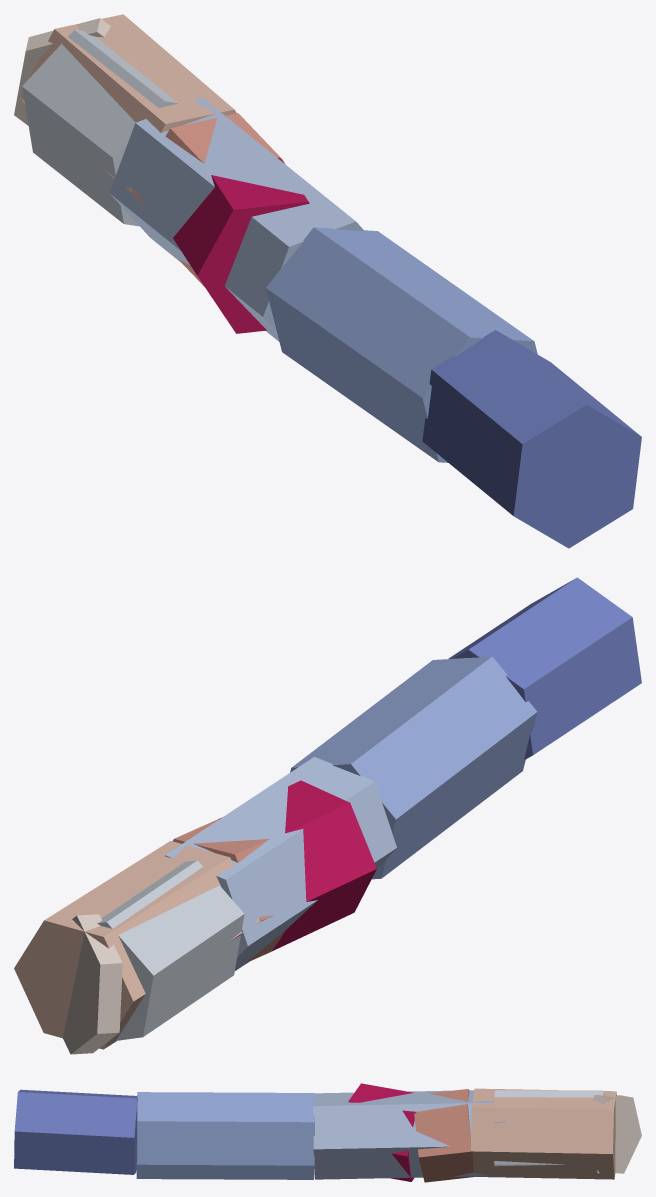
3 views of the same model, one above another, from view 1: azimuth 30°, elevation 25°; view 2: azimuth 150°, elevation 25°; view 3: azimuth 270°, elevation 25° (orthographic). The views are drawn at different scales.
Visible parts, largest first — view 1: camera_trail_0000, camera_trail_0001, camera_trail_0002, camera_trail_0003, camera_trail_0005, camera_trail_0007, camera_trail_0006, camera_trail_0004; view 2: camera_trail_0001, camera_trail_0000, camera_trail_0002, camera_trail_0005, camera_trail_0003, camera_trail_0007, camera_trail_0004, camera_trail_0006; view 3: camera_trail_0001, camera_trail_0005, camera_trail_0000, camera_trail_0002, camera_trail_0006, camera_trail_0004, camera_trail_0007, camera_trail_0003.
Boxes of the visible parts, x1,y1,x2,y2 form: camera_trail_0000: (422, 330, 641, 548); camera_trail_0001: (266, 227, 537, 462); camera_trail_0002: (109, 97, 364, 341); camera_trail_0003: (22, 30, 178, 226); camera_trail_0005: (19, 14, 236, 191); camera_trail_0007: (173, 157, 309, 333); camera_trail_0006: (132, 113, 285, 286); camera_trail_0004: (14, 18, 110, 125); camera_trail_0001: (290, 656, 537, 879); camera_trail_0000: (448, 577, 641, 760); camera_trail_0002: (164, 757, 396, 970); camera_trail_0005: (14, 841, 259, 1049); camera_trail_0003: (97, 860, 244, 1040); camera_trail_0007: (219, 780, 376, 951); camera_trail_0004: (63, 914, 122, 1054); camera_trail_0006: (172, 819, 284, 963); camera_trail_0001: (136, 1092, 314, 1179); camera_trail_0005: (471, 1088, 616, 1179); camera_trail_0000: (14, 1089, 137, 1174); camera_trail_0002: (313, 1090, 493, 1179); camera_trail_0006: (414, 1089, 473, 1182); camera_trail_0004: (593, 1095, 641, 1173); camera_trail_0007: (348, 1083, 416, 1181); camera_trail_0003: (494, 1090, 603, 1166).
Size of the model in its own units: 0.0263 by 0.0213 by 0.1417.
